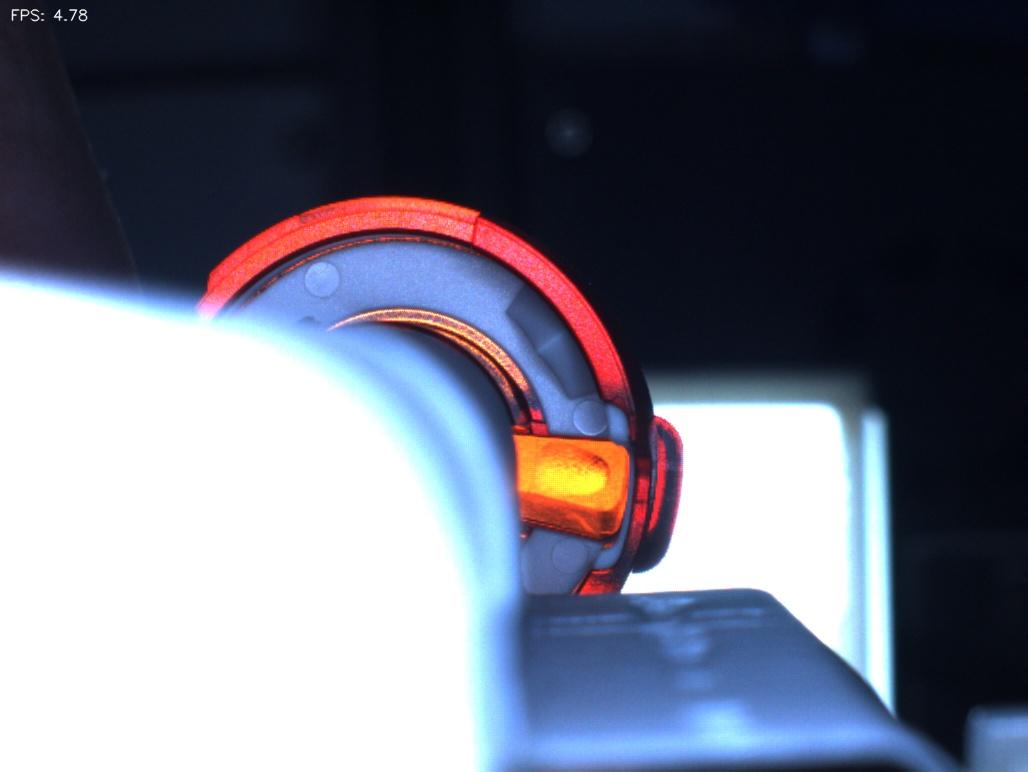Retassure: (527, 438, 612, 515)
